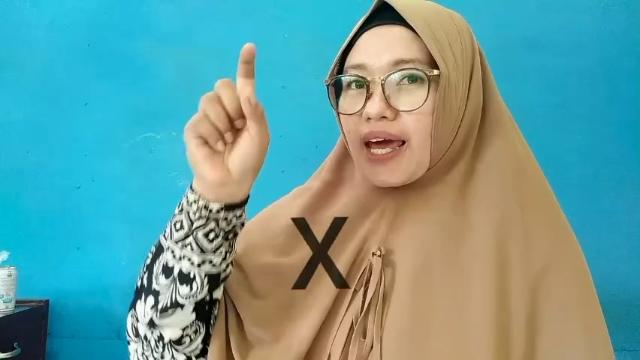X: (179, 40, 271, 187)
